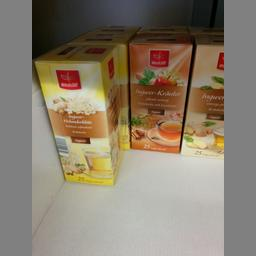tea: (33, 44, 120, 186), (127, 34, 193, 152)
